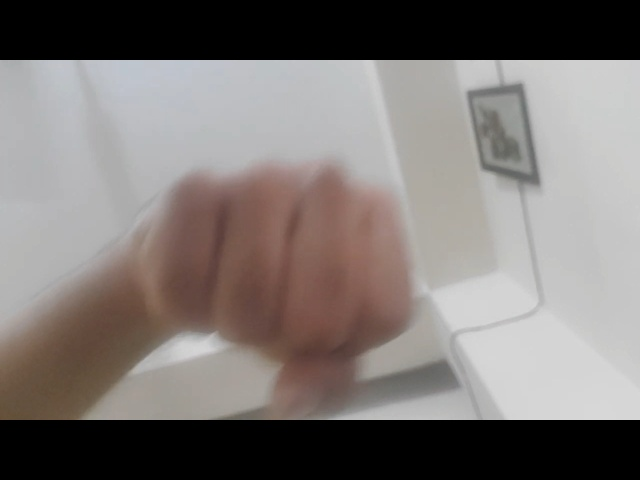Yes: (85, 136, 475, 419)
